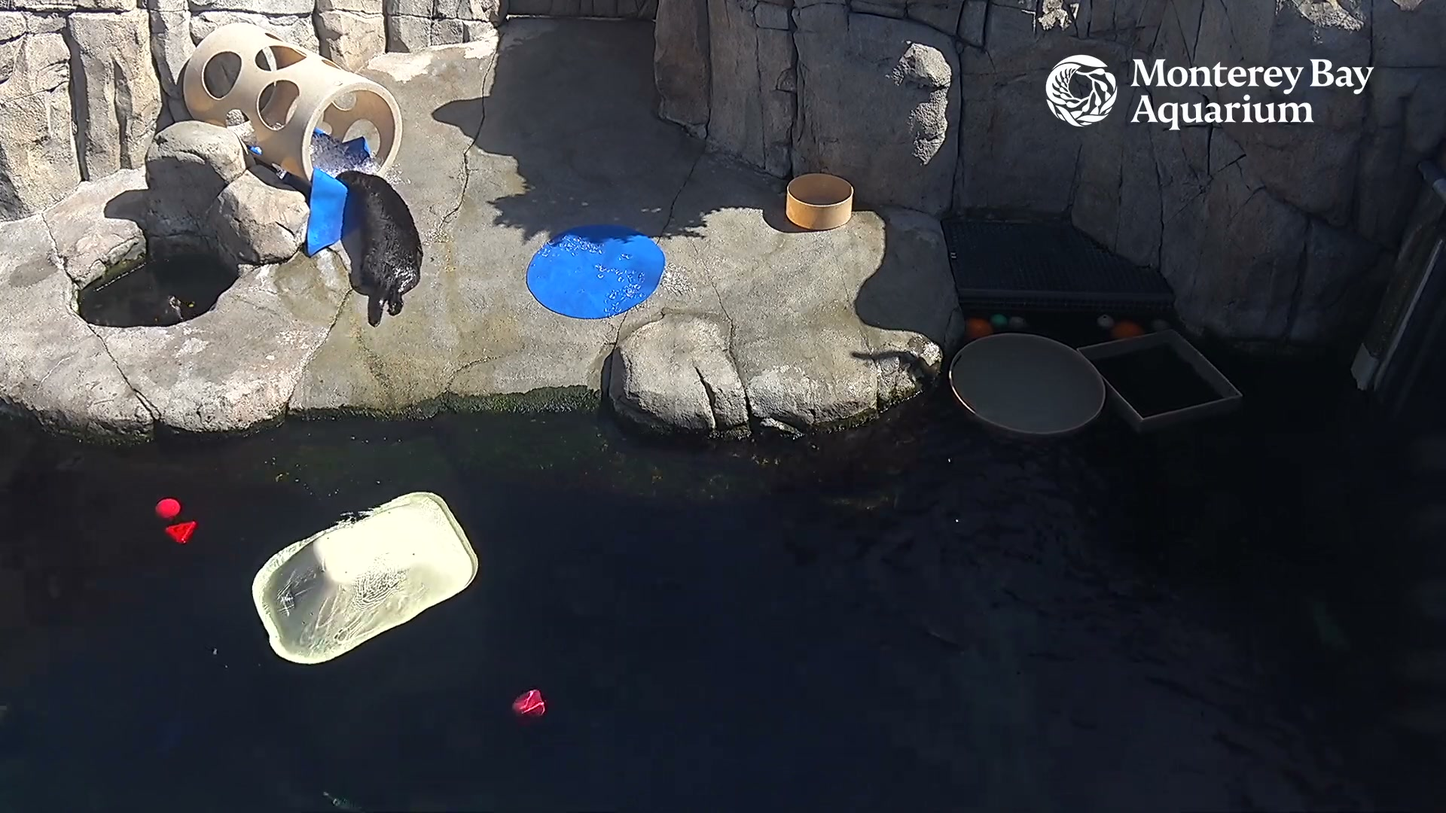Southern Sea Otter: (319, 136, 439, 332)
